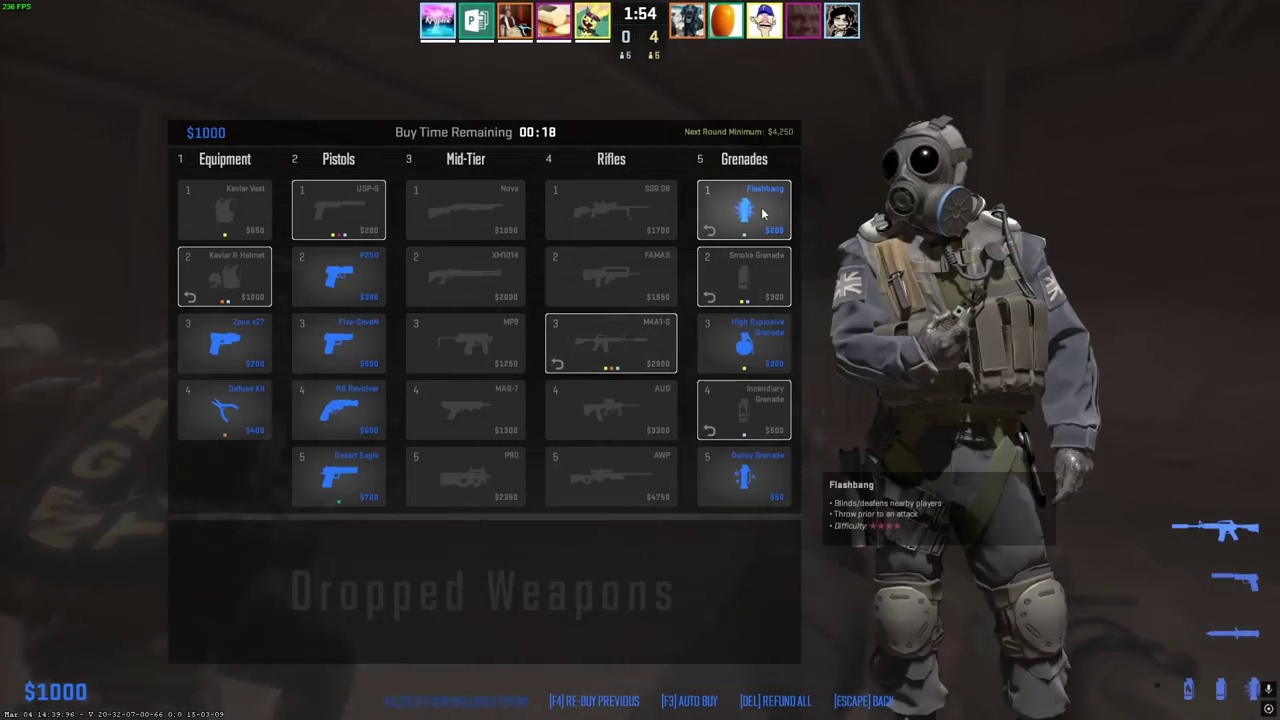CT: (856, 121, 1076, 720)
